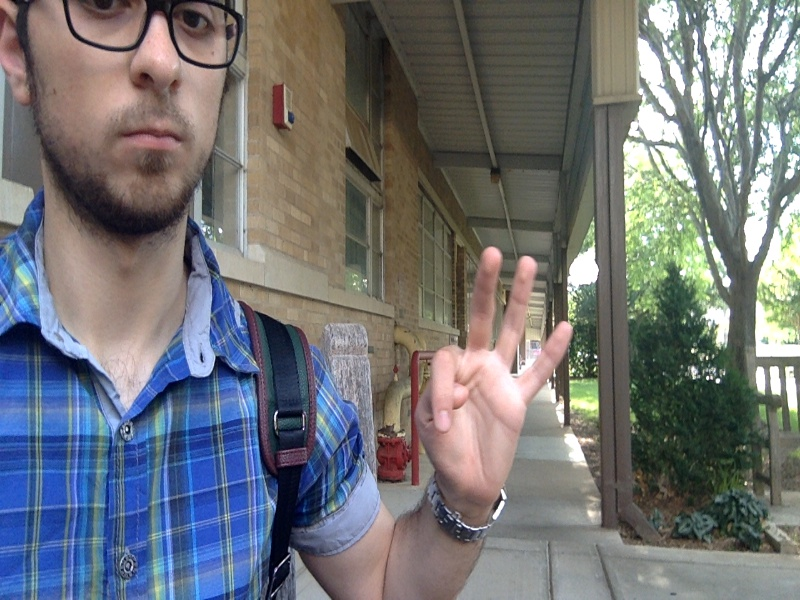3-hand: (420, 244, 573, 492)
